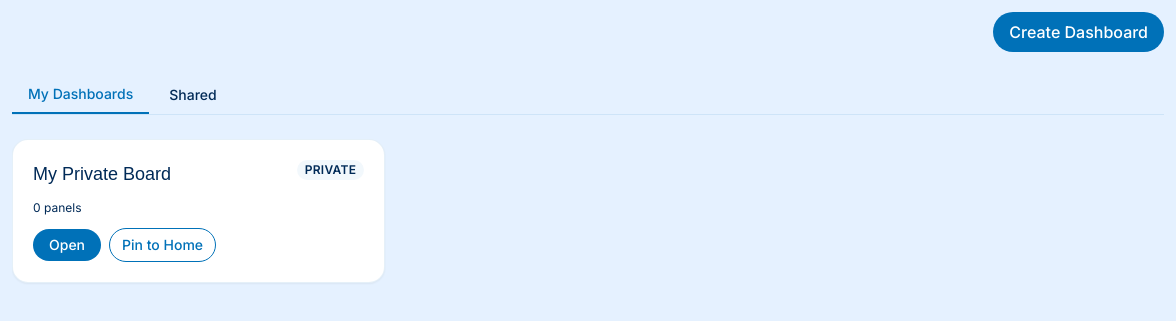
DashboardsPage › renders shared dashboards on tab switch
The image size is (1176, 321).
Expected: the heading "My Private Board" is shown, [33,160,171,188]
Click the button "Shared".
click(193, 95)  # box [153,76,233,114]
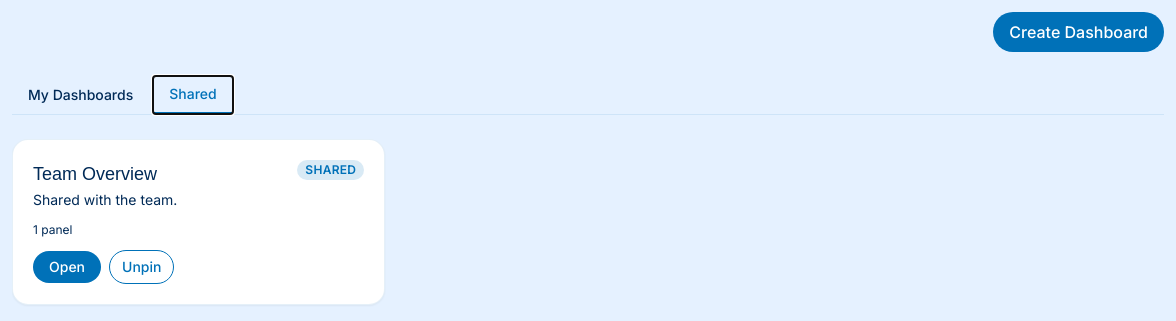
Result: the heading "Team Overview" is shown at [33,160,177,188]
